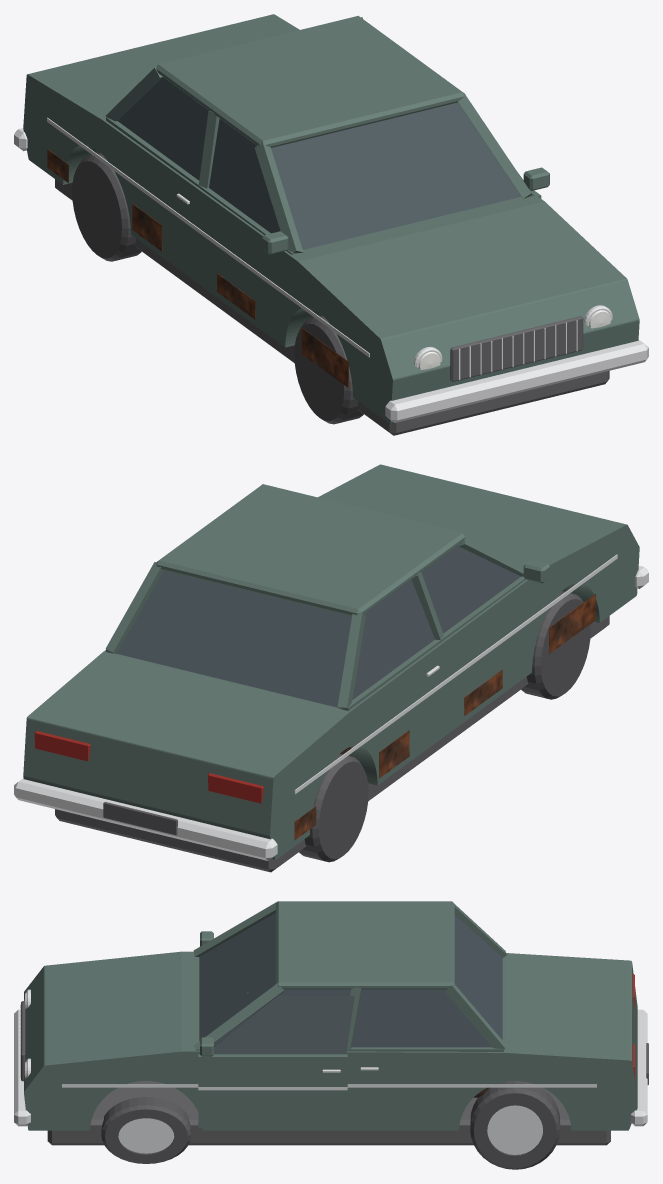
File: carro_abandonado.glb
3 renders of one model, top to bottom at view 1: azimuth 30°, elevation 25°; view 2: azimuth 150°, elevation 25°; view 3: azimuth 270°, elevation 25°, orthographic. The views are drawn at different scales.
Parts seen in each view (by area): view 1: carro_abandonado_pintura_carro, carro_abandonado_vidro_carro, carro_abandonado_cromo, carro_abandonado_esmalte_escuro, carro_abandonado_borracha, carro_abandonado_ferrugem, carro_abandonado_farol; view 2: carro_abandonado_pintura_carro, carro_abandonado_vidro_carro, carro_abandonado_borracha, carro_abandonado_cromo, carro_abandonado_esmalte_escuro, carro_abandonado_ferrugem, carro_abandonado_lanterna_carro; view 3: carro_abandonado_pintura_carro, carro_abandonado_vidro_carro, carro_abandonado_porta_pintura_carro, carro_abandonado_esmalte_escuro, carro_abandonado_cromo, carro_abandonado_borracha, carro_abandonado_porta_vidro_carro, carro_abandonado_porta_cromo.
Boxes of the visible parts, box(x1,y1,x2,y2) form: carro_abandonado_pintura_carro: box(23, 14, 639, 423); carro_abandonado_vidro_carro: box(117, 77, 520, 249); carro_abandonado_cromo: box(14, 117, 648, 422); carro_abandonado_esmalte_escuro: box(55, 179, 609, 435); carro_abandonado_borracha: box(72, 153, 363, 424); carro_abandonado_ferrugem: box(47, 149, 348, 387); carro_abandonado_farol: box(418, 310, 610, 369); carro_abandonado_pintura_carro: box(23, 464, 639, 859); carro_abandonado_vidro_carro: box(116, 545, 520, 707); carro_abandonado_borracha: box(299, 591, 590, 862); carro_abandonado_cromo: box(14, 554, 648, 860); carro_abandonado_esmalte_escuro: box(55, 616, 609, 872); carro_abandonado_ferrugem: box(294, 594, 595, 839); carro_abandonado_lanterna_carro: box(34, 731, 263, 803); carro_abandonado_pintura_carro: box(24, 901, 637, 1130); carro_abandonado_vidro_carro: box(199, 913, 502, 1047); carro_abandonado_porta_pintura_carro: box(198, 1054, 347, 1128); carro_abandonado_esmalte_escuro: box(21, 1001, 648, 1145); carro_abandonado_cromo: box(14, 989, 647, 1154); carro_abandonado_borracha: box(101, 1081, 560, 1169); carro_abandonado_porta_vidro_carro: box(214, 996, 354, 1053); carro_abandonado_porta_cromo: box(198, 1069, 347, 1090).
Size of the model in its own units: 1.92 by 1.41 by 4.51.
10 materials, 2 textured.
